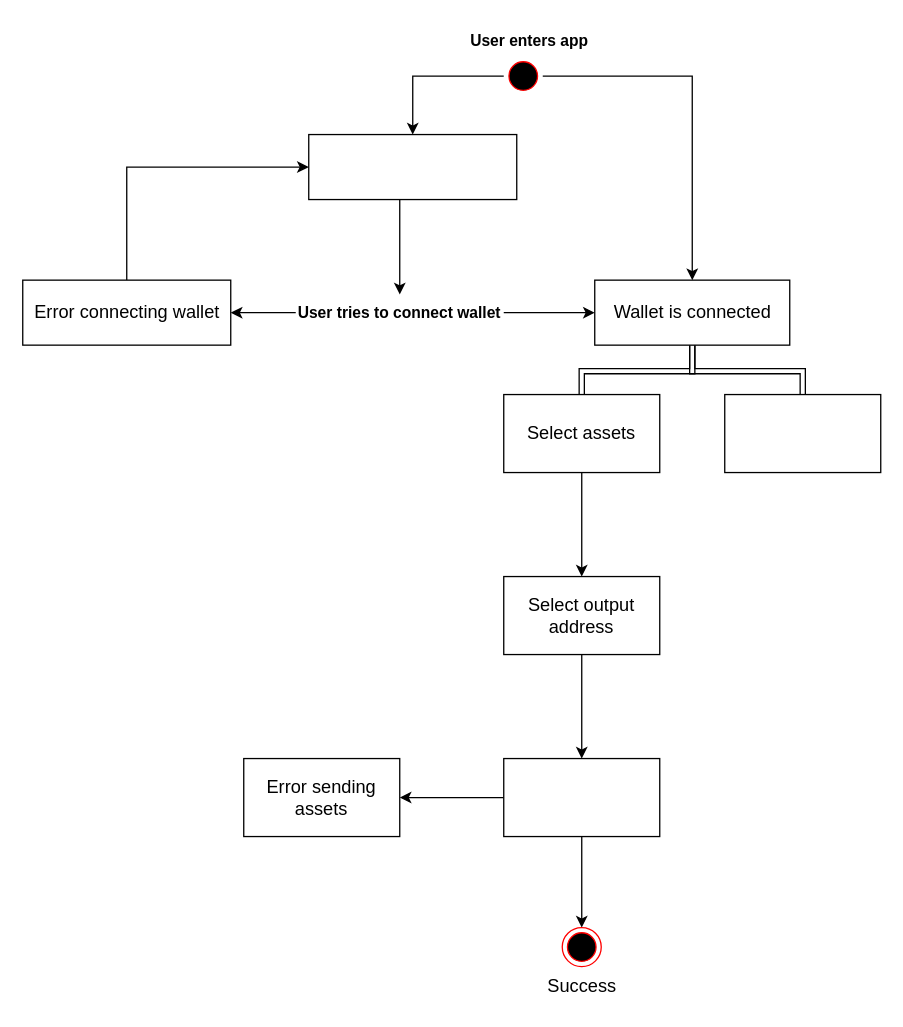
Some shapes in this 903 by 1027 pixel diagram are drawn without their labels. Here are the shapes that lost their labels. From the top down, the centre of each, then its label:
At point (412, 166): "Wallet is not connected".
At point (802, 433): "User has no assets".
At point (581, 797): "Send".
